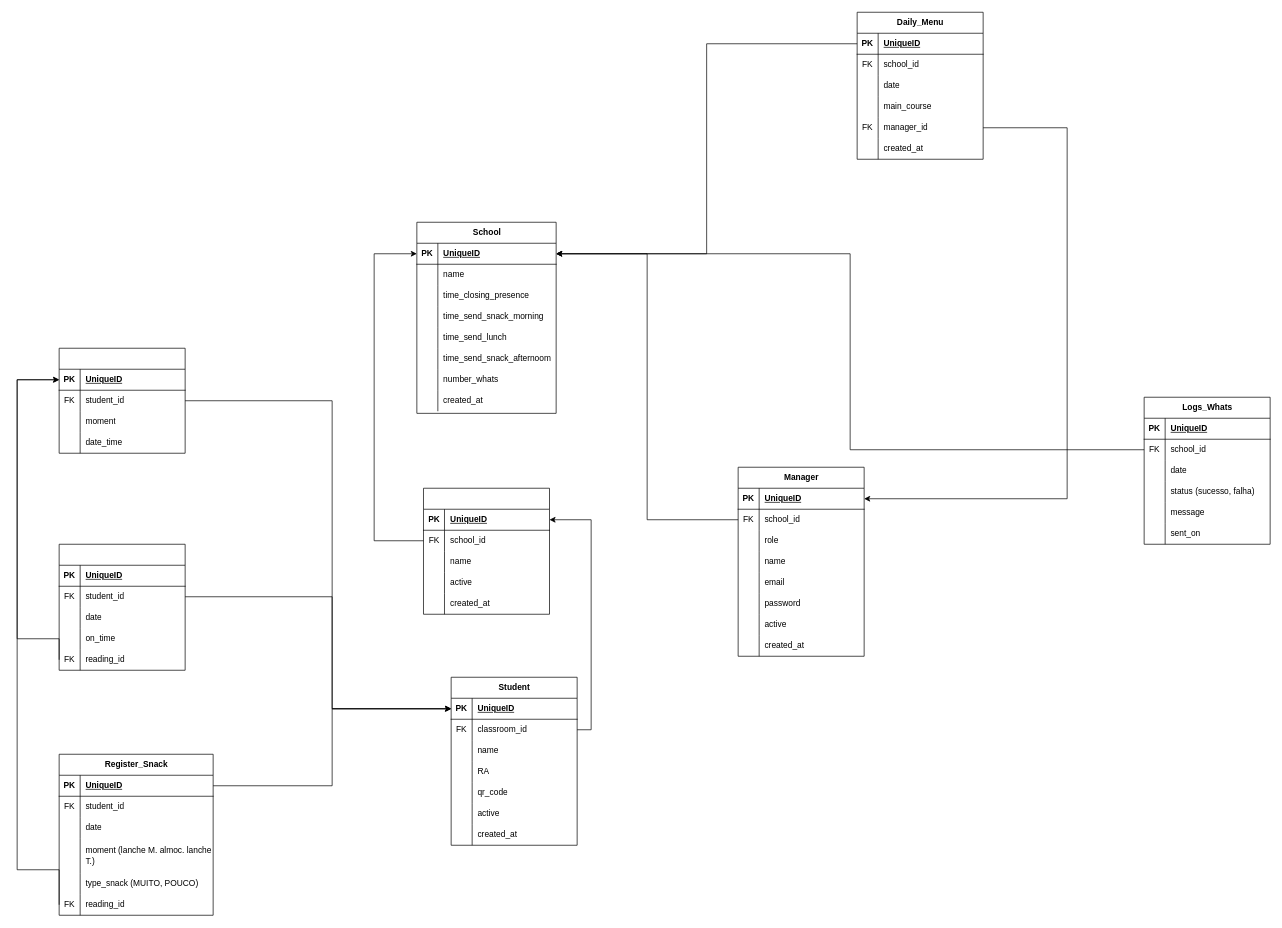
Image size: 1282x928. Some labels were removed from this diagram. Each missing label, with the box of its shape:
Classroom: (423, 488, 550, 614)
Frequency: (58, 544, 185, 670)
Readings: (58, 348, 185, 453)
